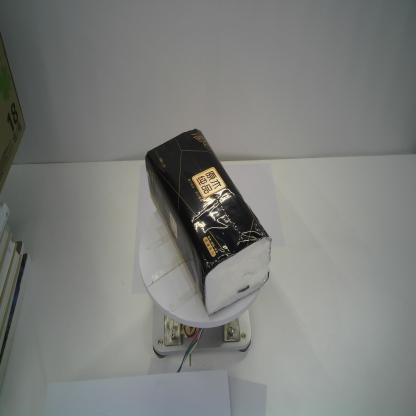Tissue: (145, 129, 272, 317)
